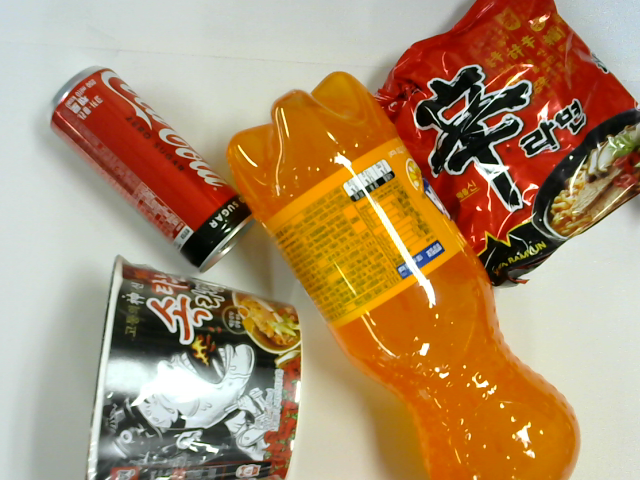Coca_Cola_Zero_Can_250ml: (45, 64, 260, 273)
HeJangsock: (84, 256, 306, 480)
Hwanta_Orange_1.5L: (223, 70, 583, 480)
Sinramen: (370, 3, 640, 288)
